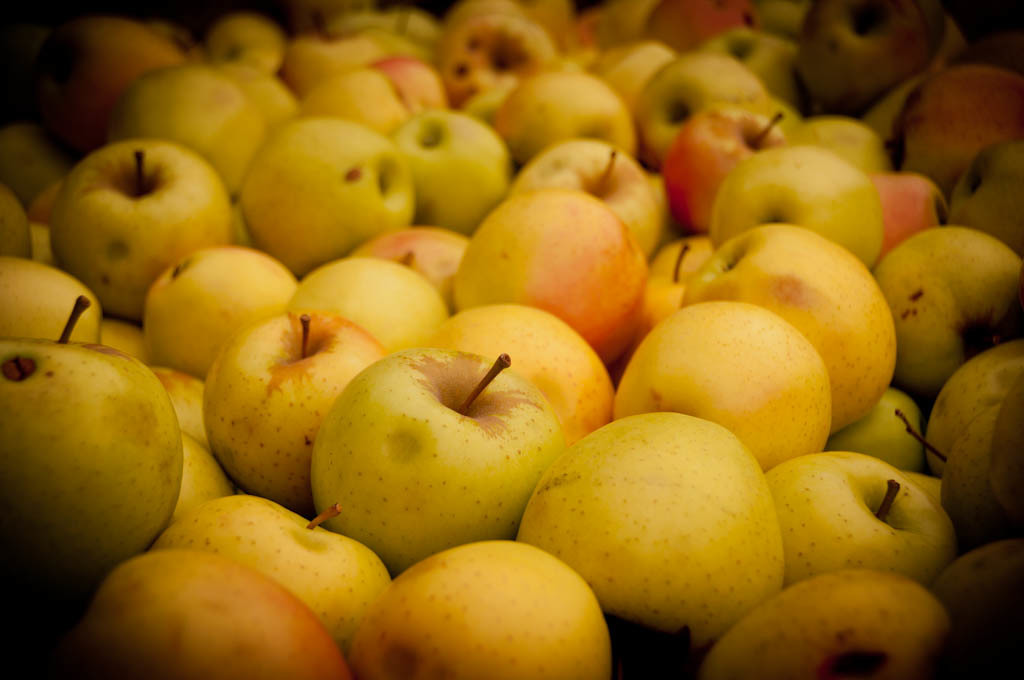Apple: (0, 0, 1022, 678), (314, 336, 563, 576)
